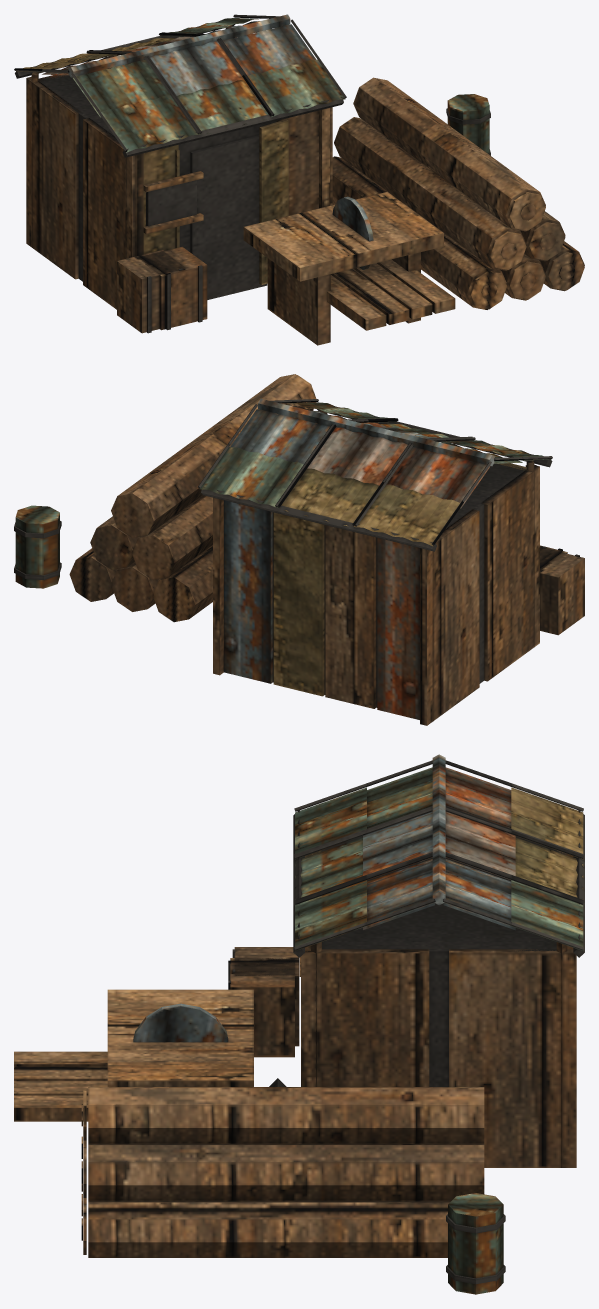
File: LumberMill.fbx
The picture shows the model from 3 angles, top to bottom: view 1: azimuth 30°, elevation 25°; view 2: azimuth 150°, elevation 25°; view 3: azimuth 270°, elevation 25°; orthographic projection. The views are drawn at different scales.
Parts seen in each view (by area): view 1: LumberMill; view 2: LumberMill; view 3: LumberMill.
Part boxes in pixels (box(x1,y1,x2,y2)): LumberMill: box(14, 14, 584, 345); LumberMill: box(14, 374, 584, 725); LumberMill: box(14, 754, 584, 1294).
Bounding box in the file's own units: 3.06 × 1.44 × 2.65.
1 material, 1 textured.
